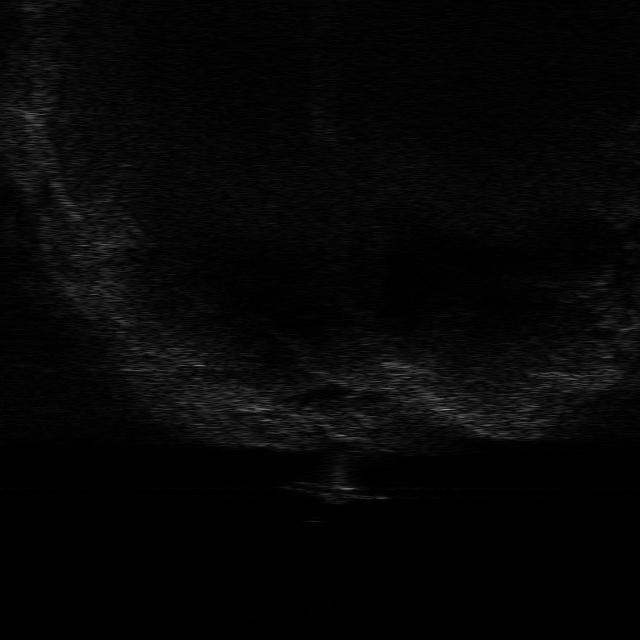plane: (278, 477, 394, 505)
